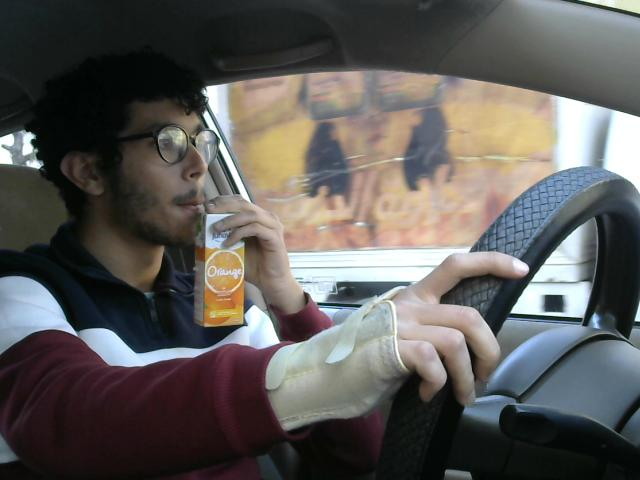Drinking: (60, 93, 275, 327)
